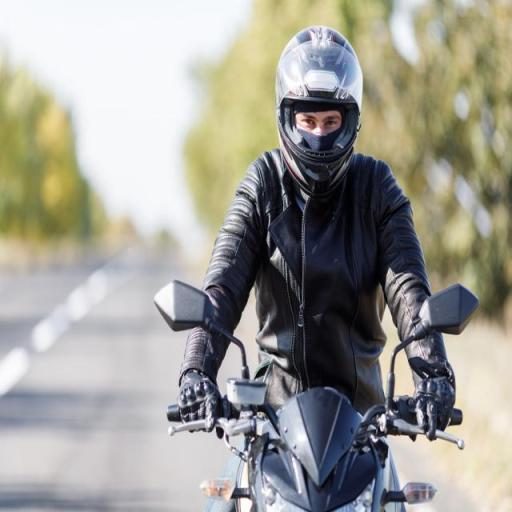Helmet: (263, 10, 374, 192)
Motor: (118, 239, 471, 512)
